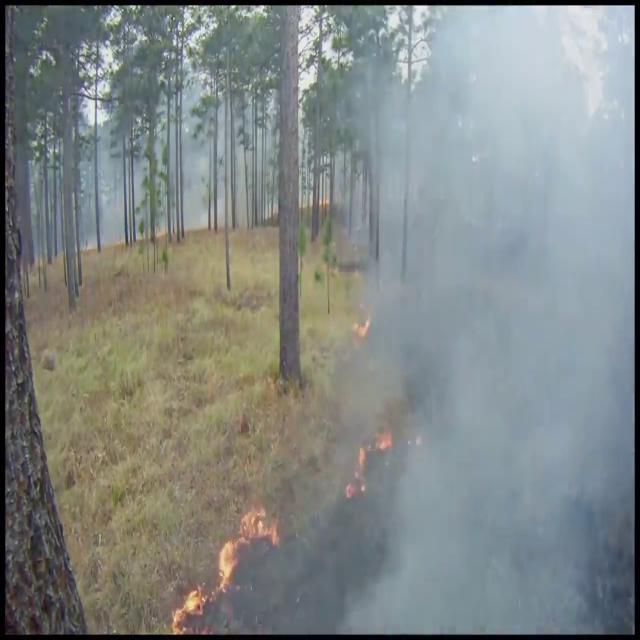Fire: (216, 497, 278, 593), (170, 580, 208, 632)
Smoke: (302, 5, 634, 636)
